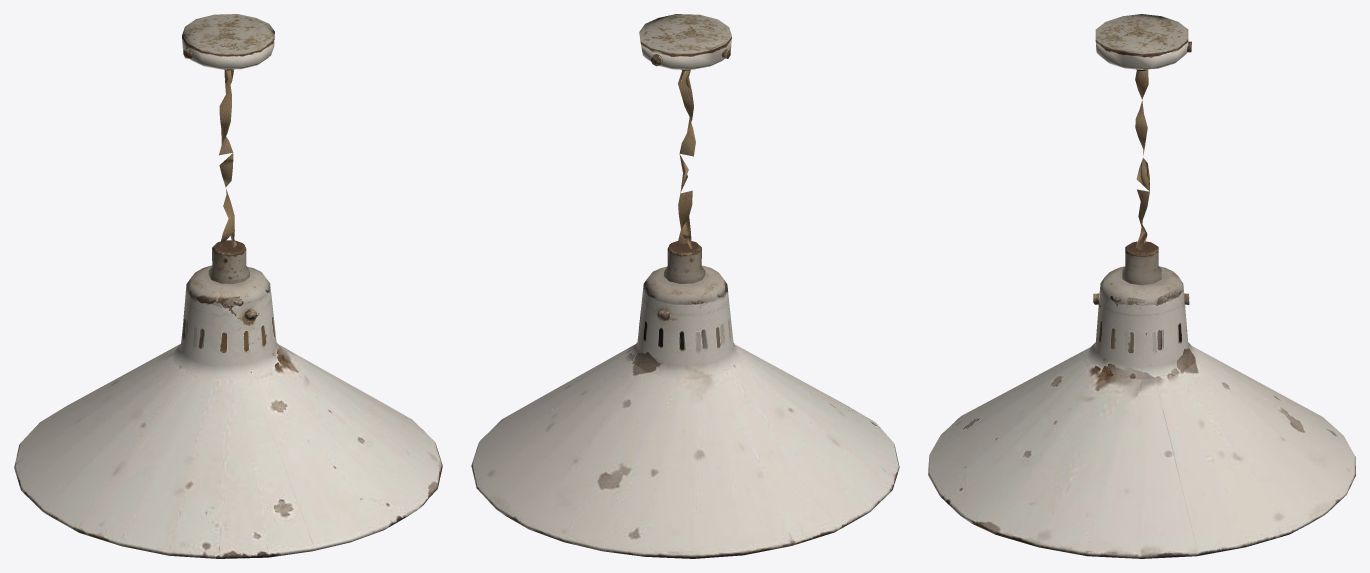
The model's file is story_void_lamp.glb.
3 views of the same model, side by side, from view 1: azimuth 30°, elevation 25°; view 2: azimuth 150°, elevation 25°; view 3: azimuth 270°, elevation 25° (orthographic).
Visible parts, largest first — view 1: Mesh_0; view 2: Mesh_0; view 3: Mesh_0.
Part boxes in pixels (x1=…): Mesh_0: x1=14, y1=14, x2=442, y2=558; Mesh_0: x1=471, y1=14, x2=899, y2=558; Mesh_0: x1=928, y1=14, x2=1355, y2=558.
Bounding box in the file's own units: 0.5707 × 0.7 × 0.5707.
1 material, 1 textured.
